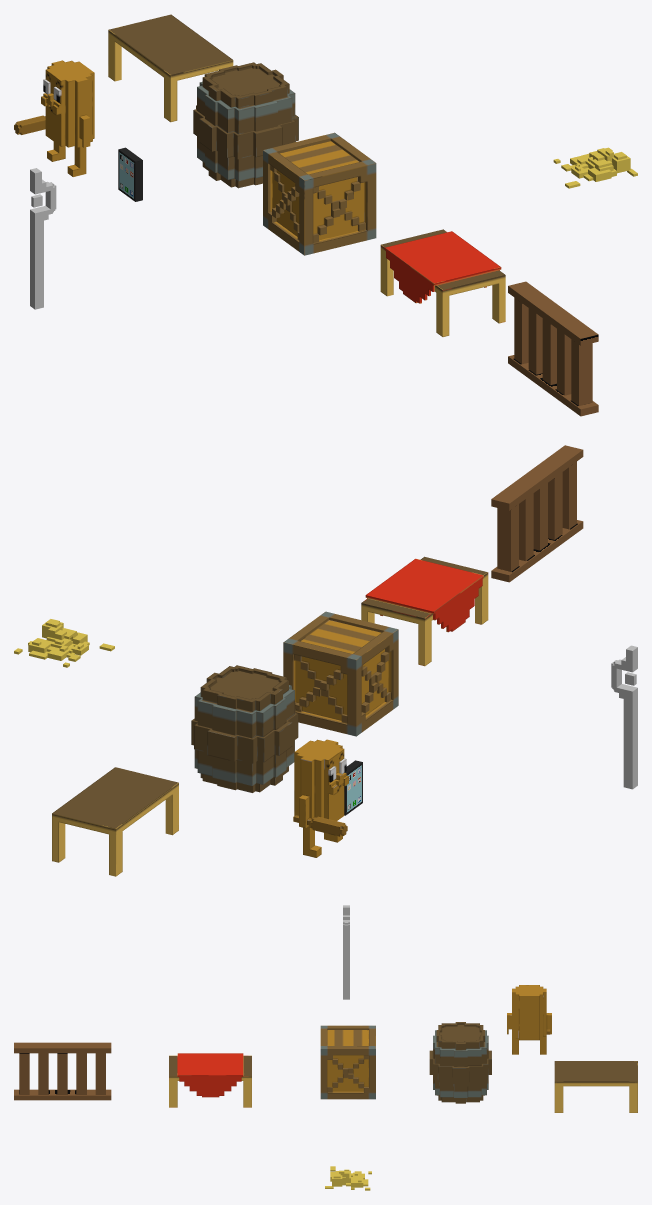
3 renders of one model, top to bottom at view 1: azimuth 30°, elevation 25°; view 2: azimuth 150°, elevation 25°; view 3: azimuth 270°, elevation 25°, orthographic. The views are drawn at different scales.
Visible parts, largest first — view 1: Crate, Barrel, Barrier_Wooden, Table_Cloth, Table_No_Cloth, Treasure_1, Treasure_2, Treasure_small, Treasure_3; view 2: Crate, Barrel, Barrier_Wooden, Table_Cloth, Table_No_Cloth, Treasure_1, Treasure_2, Treasure_small, Treasure_3; view 3: Barrel, Barrier_Wooden, Crate, Table_Cloth, Table_No_Cloth, Treasure_1, Treasure_small, Treasure_2.
Boxes of the visible parts, x1,y1,x2,y2 form: Crate: (263, 132, 376, 255); Barrel: (193, 62, 298, 188); Barrier_Wooden: (508, 281, 598, 416); Table_Cloth: (380, 229, 505, 336); Table_No_Cloth: (108, 14, 233, 122); Treasure_1: (14, 60, 94, 176); Treasure_2: (30, 168, 56, 309); Treasure_small: (553, 147, 637, 188); Treasure_3: (118, 147, 142, 201); Crate: (283, 611, 398, 736); Barrel: (191, 665, 298, 792); Barrier_Wooden: (491, 445, 583, 582); Table_Cloth: (361, 556, 488, 666); Table_No_Cloth: (52, 767, 178, 876); Treasure_1: (293, 739, 348, 857); Treasure_2: (611, 645, 637, 789); Treasure_small: (14, 619, 114, 667); Treasure_3: (344, 760, 362, 815); Barrel: (429, 1022, 491, 1103); Barrier_Wooden: (14, 1042, 111, 1100); Crate: (320, 1025, 375, 1099); Table_Cloth: (169, 1053, 251, 1107); Table_No_Cloth: (554, 1061, 637, 1112); Treasure_1: (507, 985, 551, 1054); Treasure_small: (325, 1166, 371, 1190); Treasure_2: (343, 905, 349, 999).
Size of the model in its own units: 26.45 by 5.8 by 35.96.
